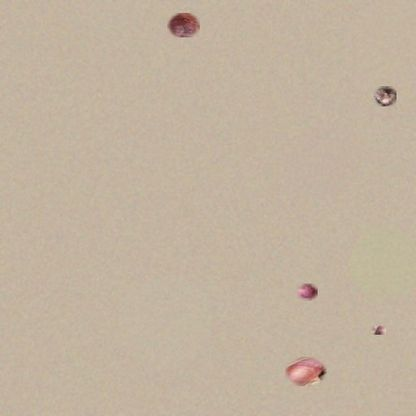damaged: (167, 13, 200, 37)
healthy: (297, 284, 318, 301)
rotten: (285, 357, 327, 386), (374, 86, 396, 106)
sprouted: (371, 326, 386, 335)
